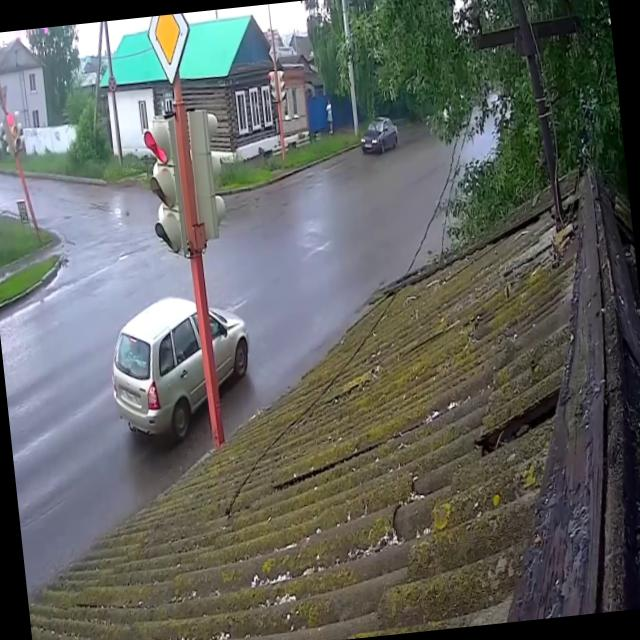noaccident: (14, 0, 550, 441)
